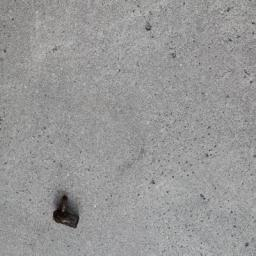FOD: (50, 194, 85, 232)
